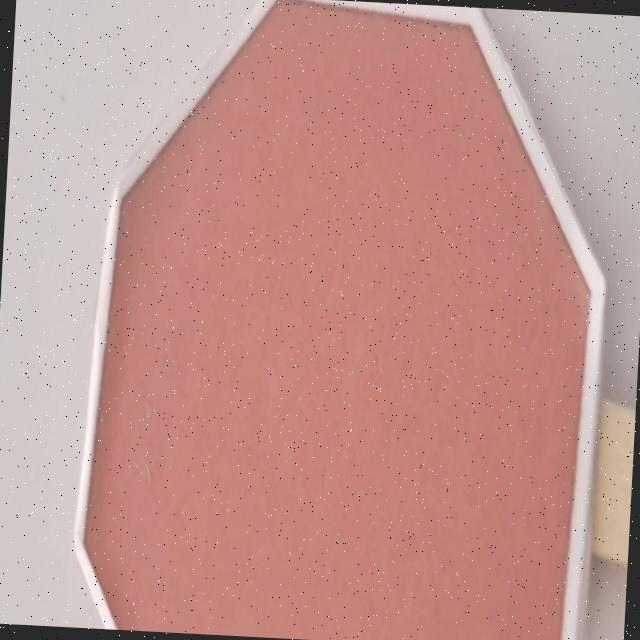Stop: (65, 0, 610, 640)
